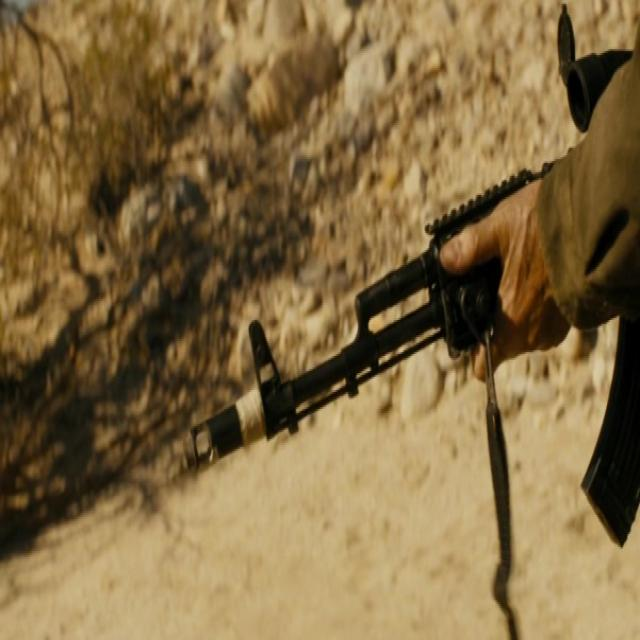rifle: (182, 1, 640, 481)
